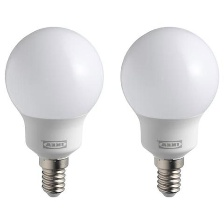light_bulb: (114, 23, 222, 201), (3, 20, 109, 200)
